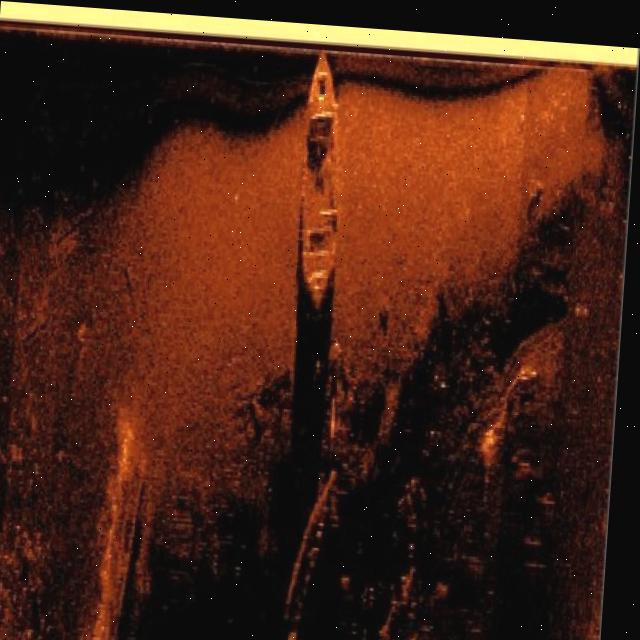shipwreck: (292, 37, 353, 301)
